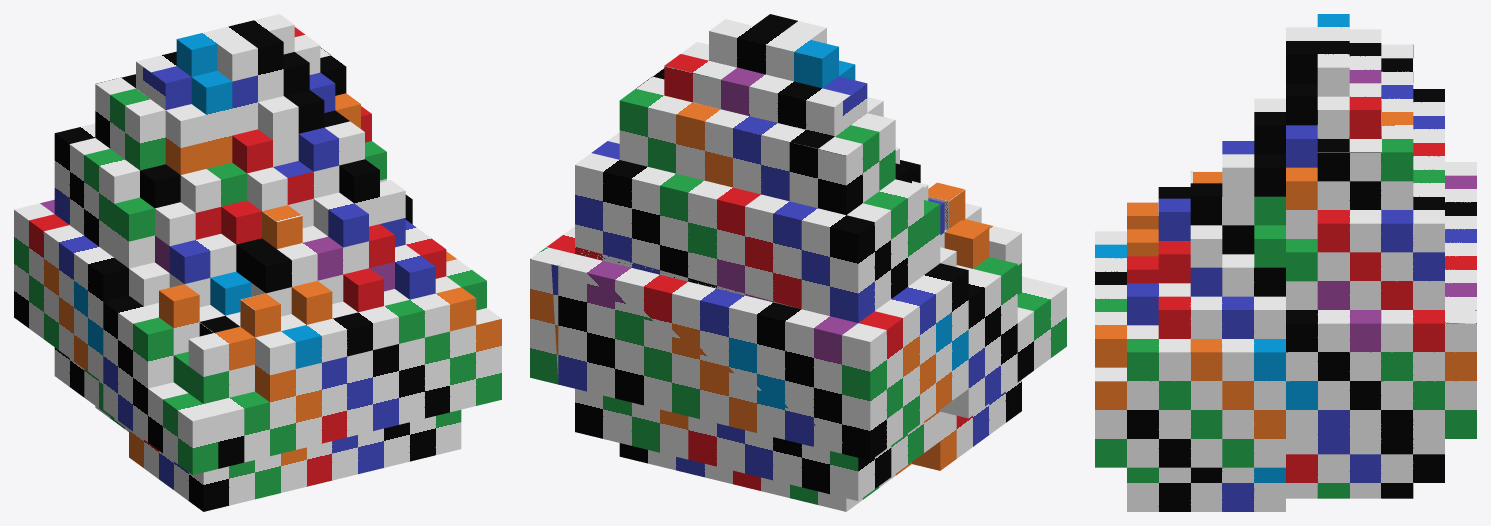
File: egg_smashed1.obj
The picture shows the model from 3 angles, left to right: view 1: azimuth 30°, elevation 25°; view 2: azimuth 150°, elevation 25°; view 3: azimuth 270°, elevation 25°; orthographic projection. The views are drawn at different scales.
Visible parts, largest first — view 1: egg_voxel2; view 2: egg_voxel2; view 3: egg_voxel2.
Boxes of the visible parts, x1,y1,x2,y2 form: egg_voxel2: (14,14,501,511); egg_voxel2: (530,14,1066,511); egg_voxel2: (1095,14,1476,511).
Bounding box in the file's own units: 0.75 × 0.875 × 0.75.
